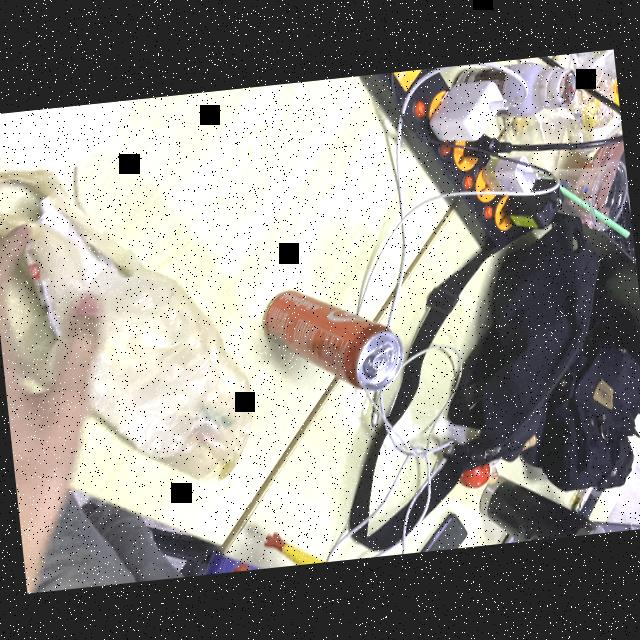can: (258, 274, 408, 400)
plastic_bag: (0, 144, 260, 505)
plastic_bottle: (450, 53, 580, 122)
plastic_box: (558, 48, 623, 155)
plastic_cup: (522, 156, 632, 244)
straw: (552, 174, 630, 244)
